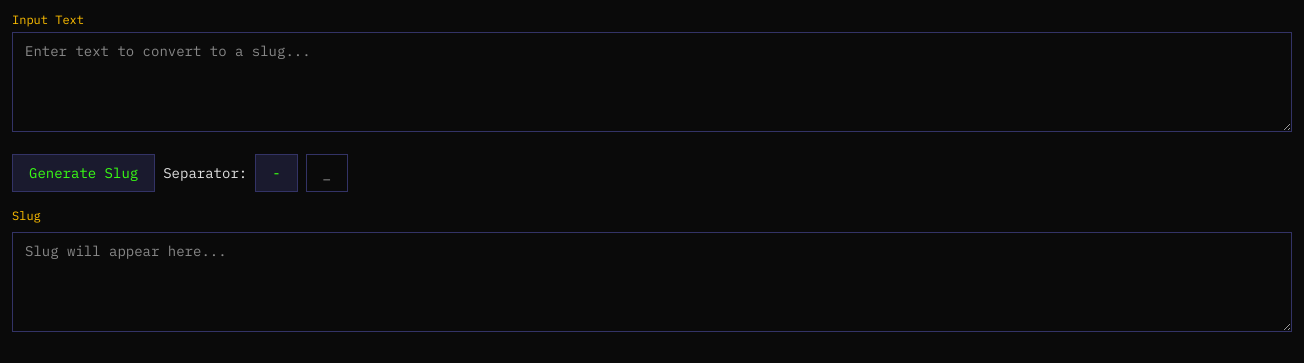
Test: SlugGenerator › generates slug on typing (live conversion)
Type "Hello World" into the text box labelled "Input Text" at [652, 82], box x1=12 y1=32 x2=1292 y2=132
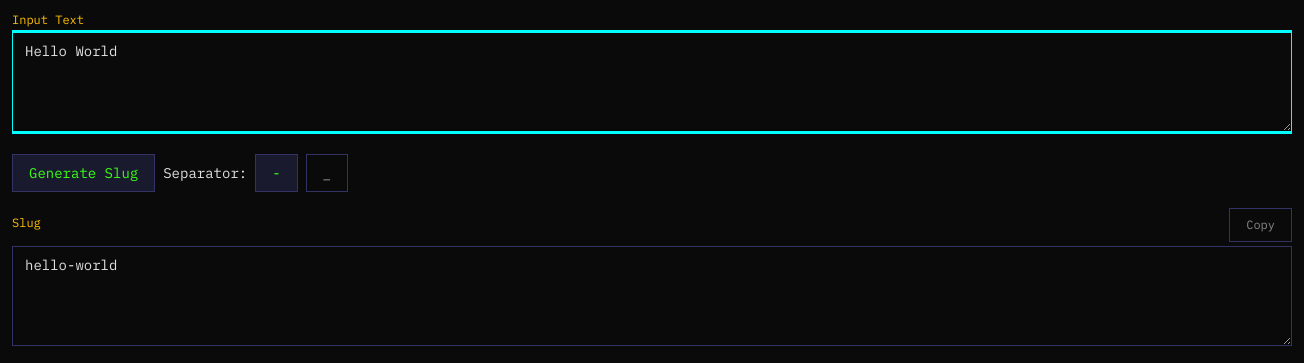
Expected: the text box labelled "Slug" holds "hello-world", x1=12 y1=246 x2=1292 y2=346
